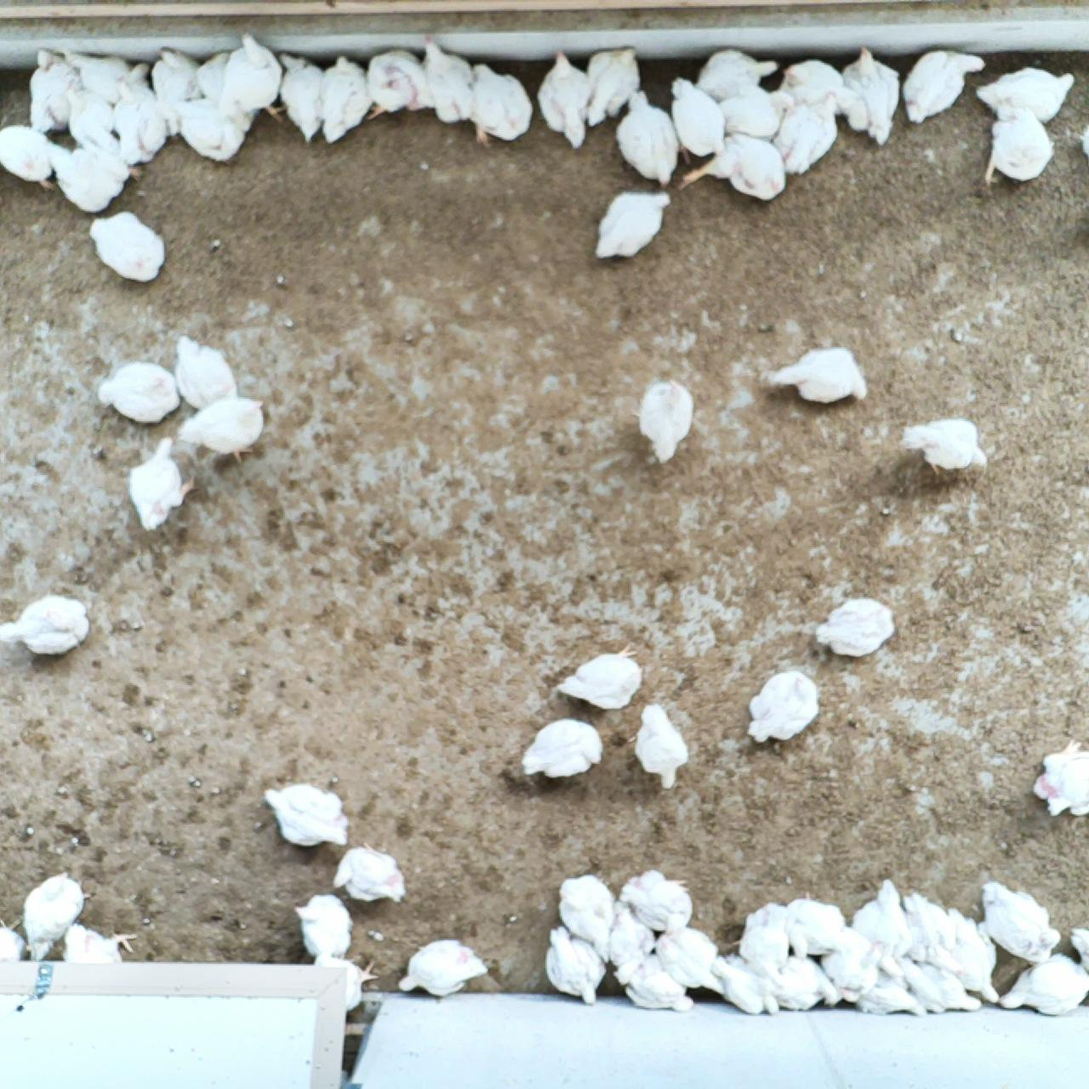chicken: (123, 430, 204, 534), (976, 874, 1065, 967), (679, 132, 788, 204), (45, 140, 143, 215), (981, 95, 1055, 193), (552, 640, 646, 714), (842, 40, 903, 154), (900, 46, 988, 125), (25, 865, 93, 966), (615, 88, 683, 189), (177, 391, 271, 464), (85, 208, 171, 287), (850, 875, 915, 979), (975, 62, 1080, 126), (625, 373, 697, 466), (772, 344, 873, 410), (652, 907, 727, 995), (220, 29, 289, 124), (996, 949, 1089, 1019), (0, 590, 94, 659), (262, 780, 354, 850), (895, 411, 991, 478), (899, 888, 968, 980), (466, 60, 537, 149), (740, 670, 822, 747), (554, 871, 621, 965), (95, 356, 181, 429), (591, 188, 674, 263), (541, 921, 608, 1013), (394, 936, 490, 999), (538, 49, 597, 151), (110, 74, 174, 168), (65, 49, 158, 112), (328, 839, 409, 911), (517, 716, 604, 783), (169, 94, 249, 166), (618, 867, 696, 940), (169, 333, 240, 413), (669, 72, 729, 166), (813, 594, 899, 659), (774, 92, 843, 173), (634, 700, 695, 791), (946, 906, 1002, 1005), (418, 34, 476, 125), (583, 45, 644, 130), (1029, 737, 1089, 823), (821, 923, 887, 1001), (619, 953, 700, 1016), (765, 949, 841, 1015), (275, 49, 328, 143), (708, 951, 778, 1022), (716, 80, 796, 142), (695, 45, 782, 102), (27, 47, 83, 135), (148, 46, 202, 136), (319, 53, 371, 146), (365, 44, 425, 121), (727, 896, 791, 968), (602, 901, 654, 989), (312, 951, 382, 1016), (771, 953, 845, 1014), (290, 890, 355, 959), (0, 122, 63, 192), (62, 79, 119, 151), (784, 889, 847, 954), (912, 959, 986, 1014), (59, 918, 140, 968), (783, 59, 853, 110), (858, 974, 930, 1021), (196, 50, 234, 99), (0, 915, 31, 963)
